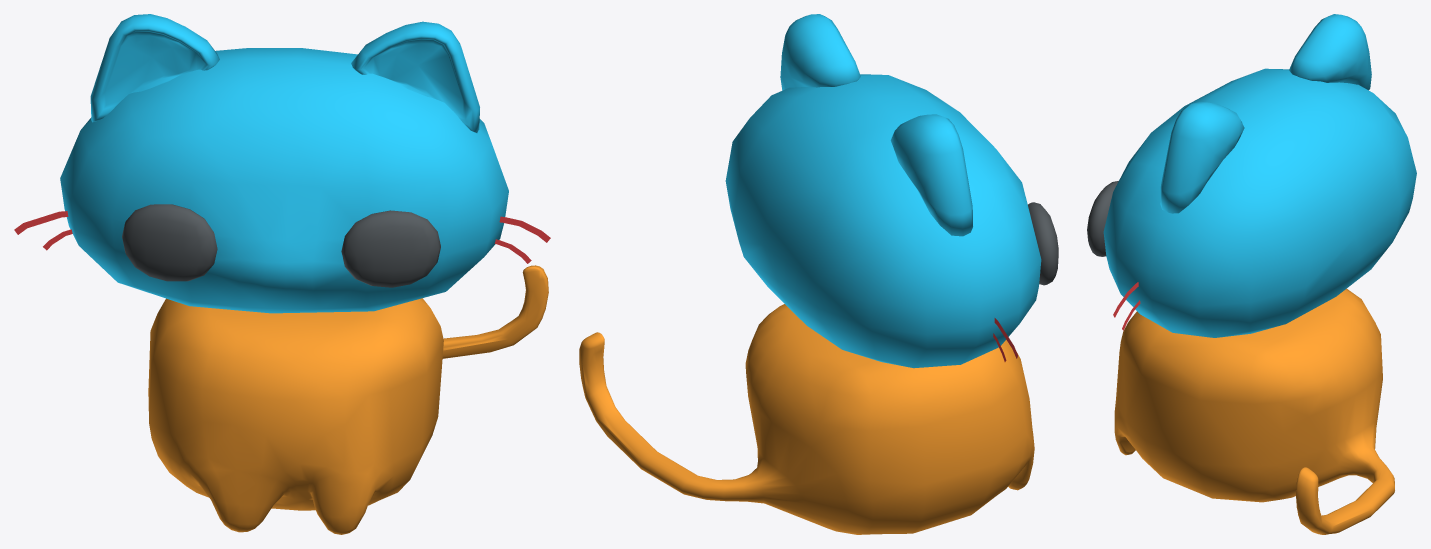
The model's file is Toy138.fbx.
3 renders of one model, left to right at view 1: azimuth 30°, elevation 25°; view 2: azimuth 150°, elevation 25°; view 3: azimuth 270°, elevation 25°, orthographic. The views are drawn at different scales.
Visible parts, largest first — view 1: Toy138; view 2: Toy138; view 3: Toy138.
Part boxes in pixels (left/top/right/bottom): Toy138: left=14, top=14, right=550, bottom=534; Toy138: left=579, top=14, right=1058, bottom=534; Toy138: left=1087, top=14, right=1416, bottom=534.
Bounding box in the file's own units: 0.195 × 0.1727 × 0.1267.
